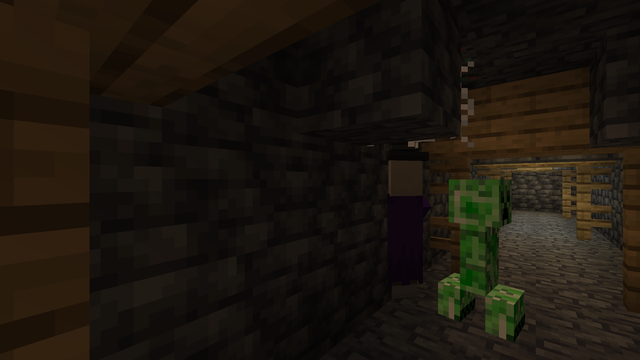creepers: (445, 172, 513, 341)
sorcieres: (387, 153, 426, 308)
